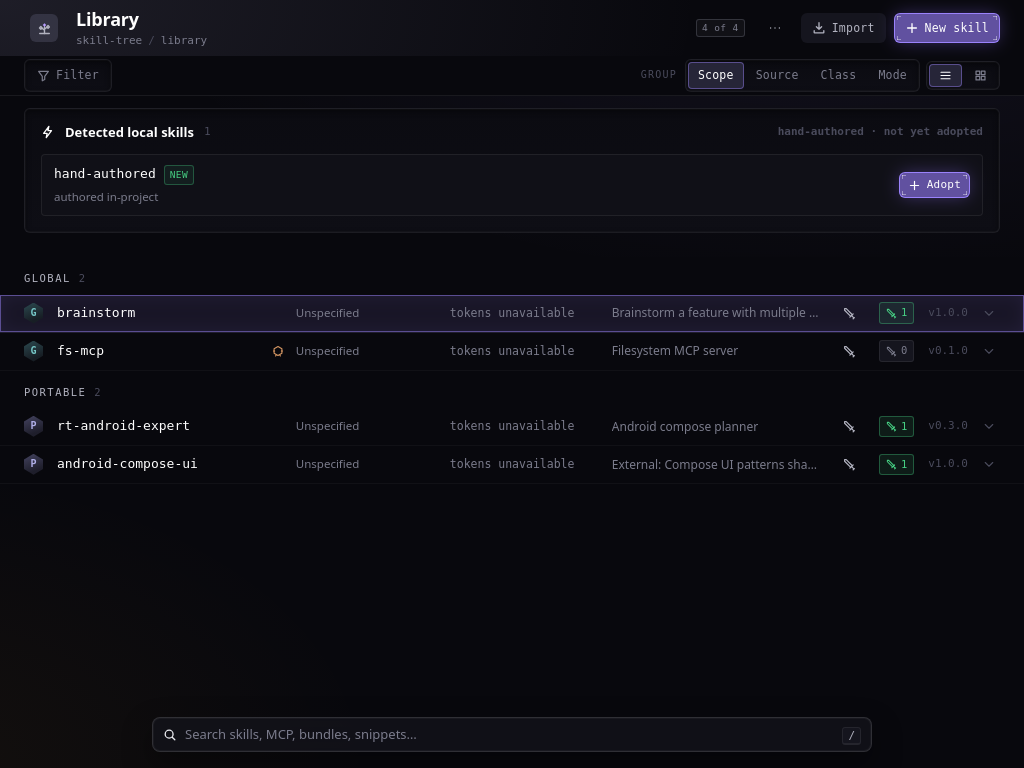
Test: SkillLibrary — unified floating search › 7b-candidates. the Detected-local-skills banner hides while kind is bundle/snippet (M6)
Expected: the text "Detected local skills" is shown, [65,123,194,142]
Focus the field with placeholder "Search skills, MCP, bundles, snippets…": (510, 734) [185,725,834,744]
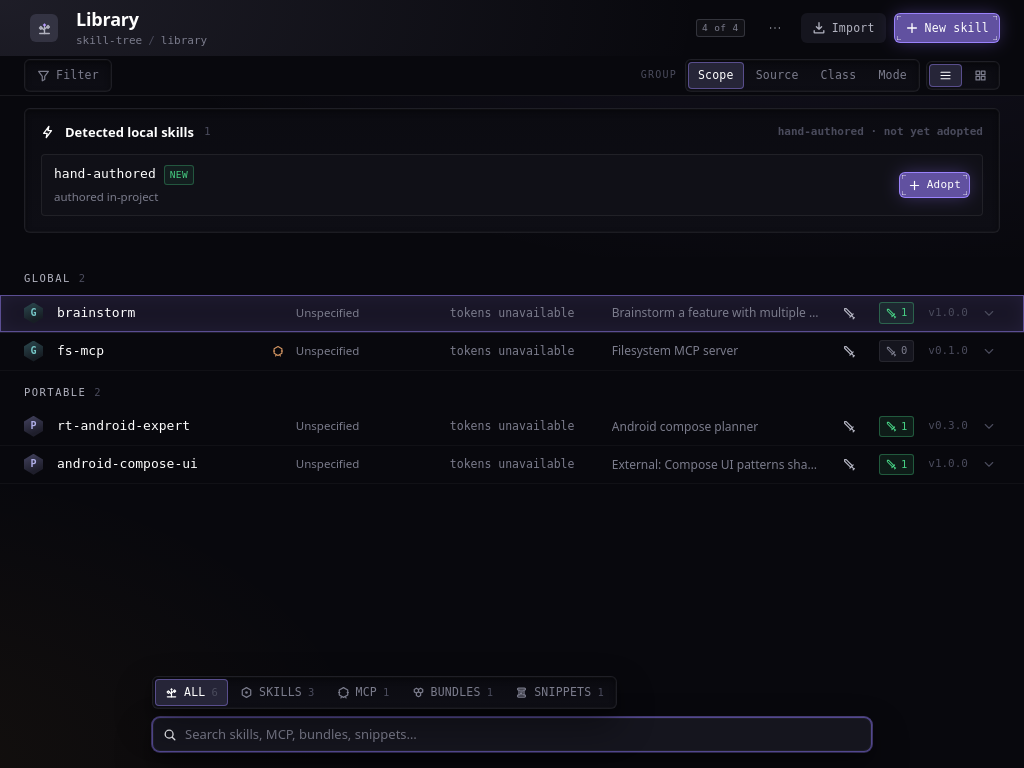
Click the button "BUNDLES 1": (452, 693) [402,680,503,706]
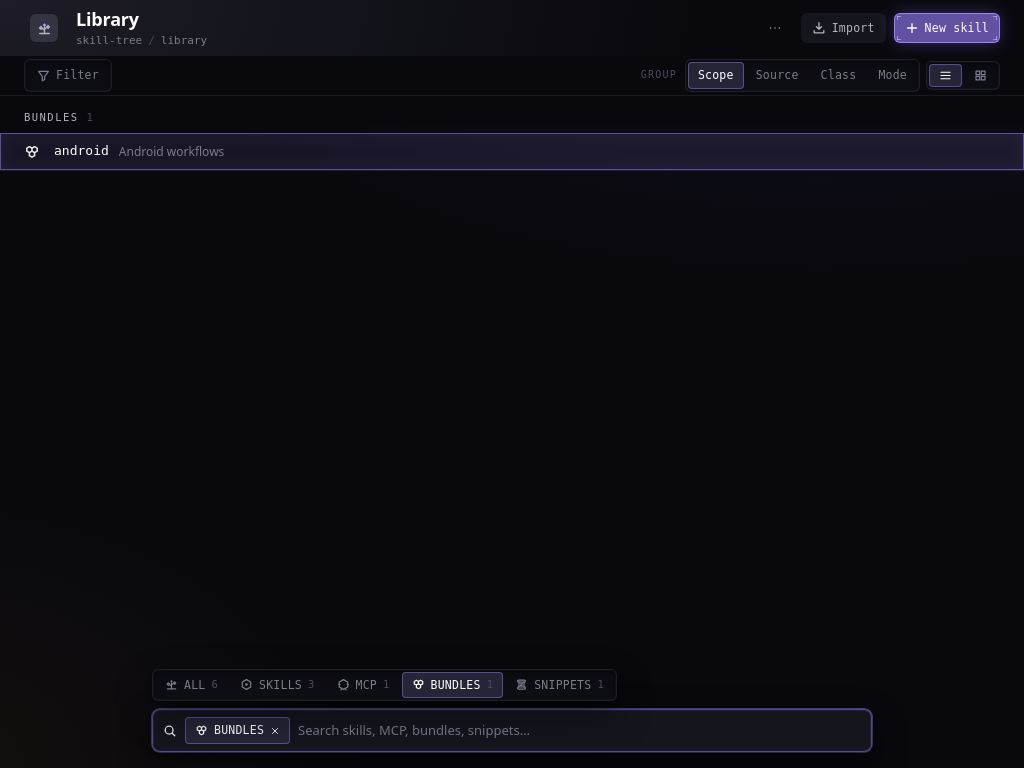
Now the text "Detected" is gone
